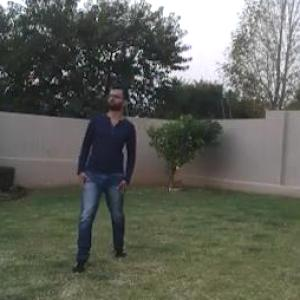follow: (71, 74, 138, 270)
